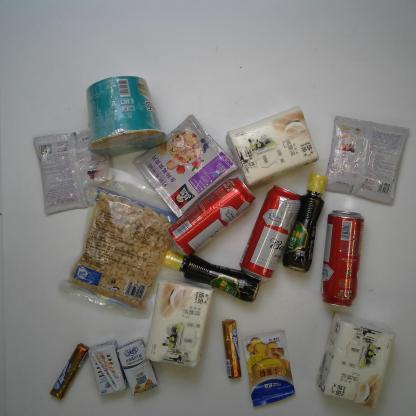Alcohol: (167, 175, 257, 258), (238, 184, 303, 282), (320, 210, 365, 308)
Candy: (49, 342, 90, 401), (221, 318, 242, 380)
Dried Fruit: (58, 162, 184, 321)
Instant Drink: (132, 113, 238, 219), (323, 115, 411, 206), (32, 127, 115, 216)
Instant Noodles: (85, 74, 168, 158)
Milk: (116, 336, 160, 397), (89, 340, 127, 396)
Seasoner: (161, 249, 262, 304), (282, 172, 328, 274), (241, 329, 296, 408)
Tissue: (315, 310, 397, 412), (224, 105, 320, 188), (145, 278, 216, 369)
